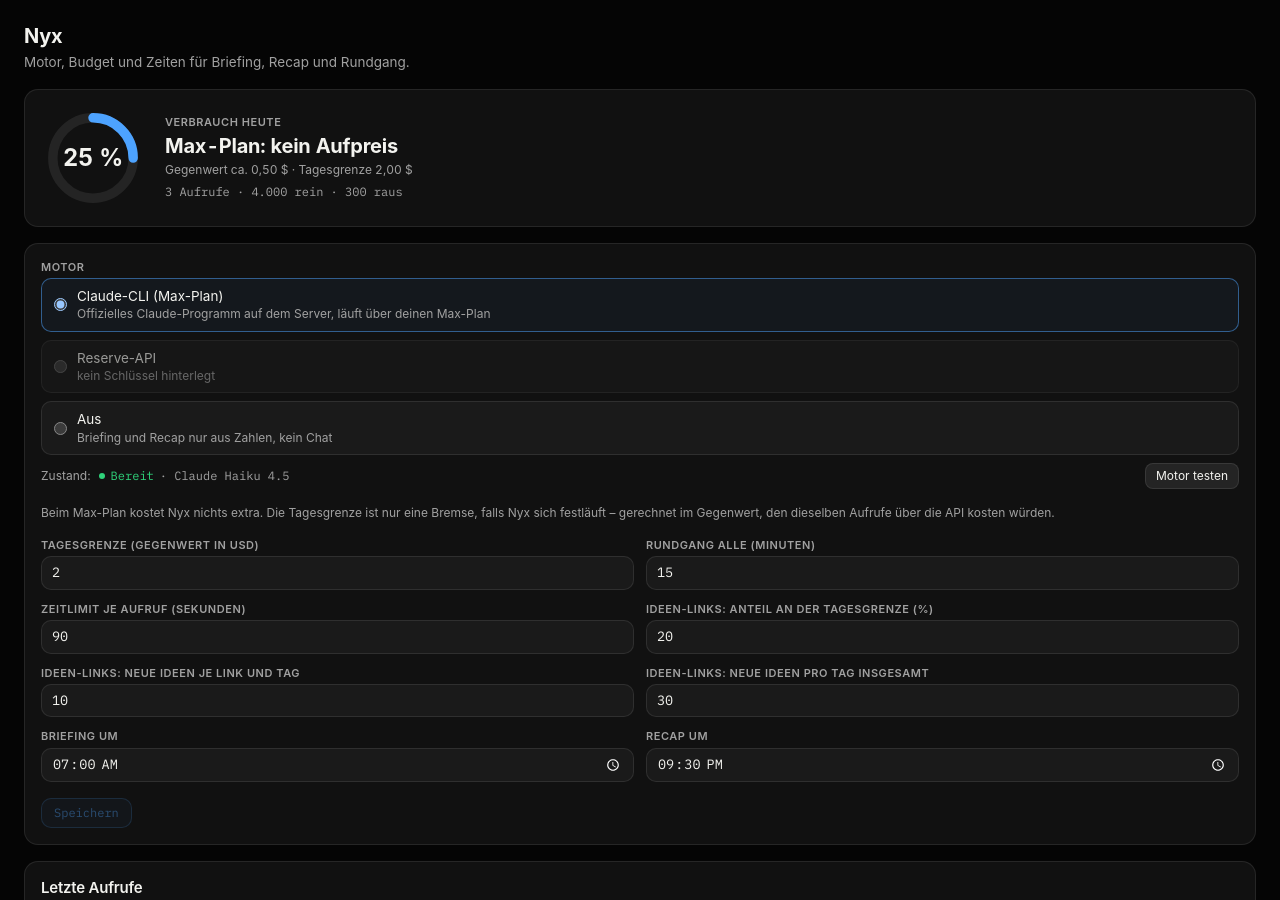
Test: Nyx-Einstellungen: ehrlicher Zustand + Max-Plan statt Dollar-Warnung › „Motor testen“ zeigt lange Antworten ohne Markdown-Sternchen und nie mitten im Wort abgeschnitten
Click the button "Motor testen": (1192,476) [1145,463,1239,489]
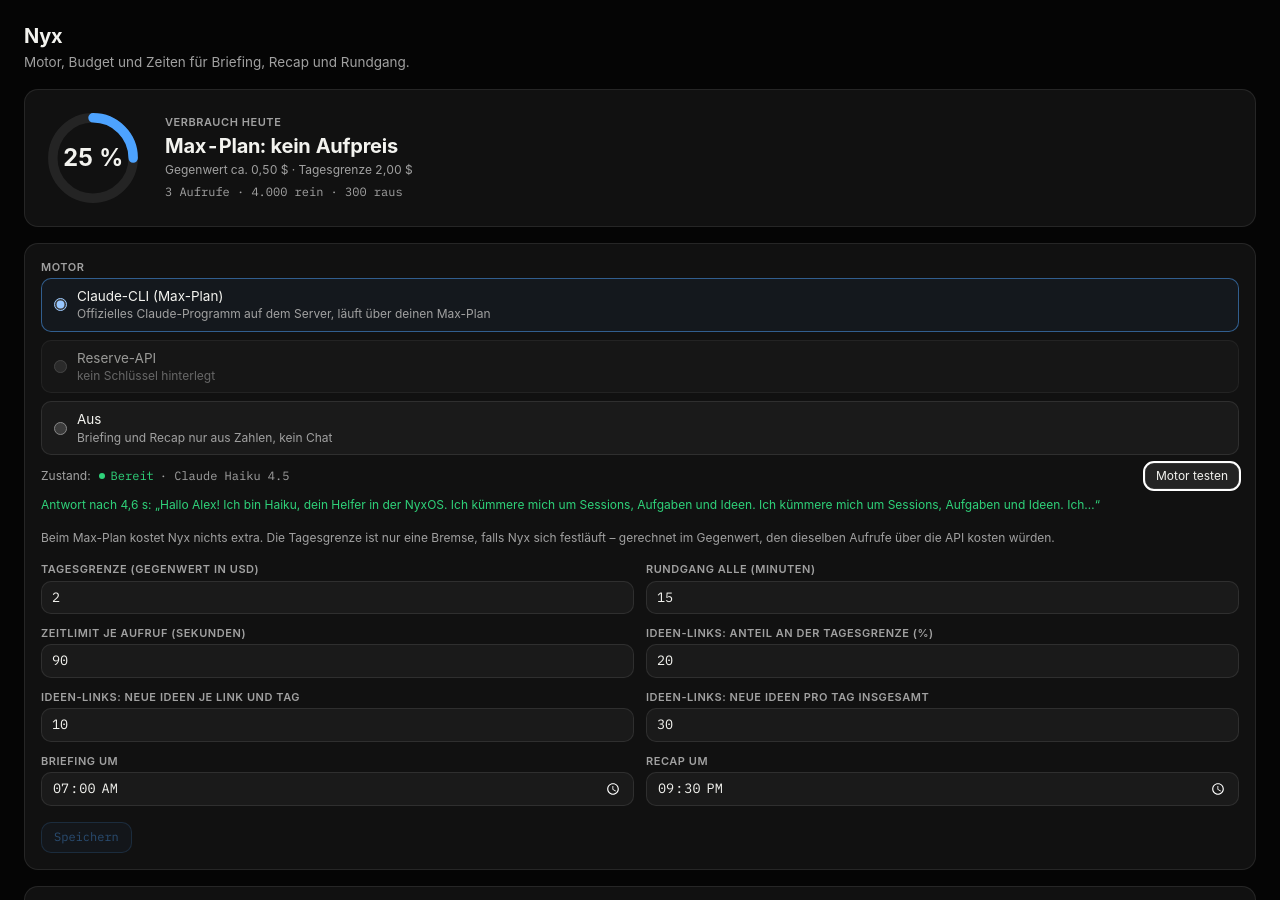
expect the text "Antwort nach 4,6 s" shows "Ich bin Haiku, dein Helfer": met, box [41,497,1100,512]
